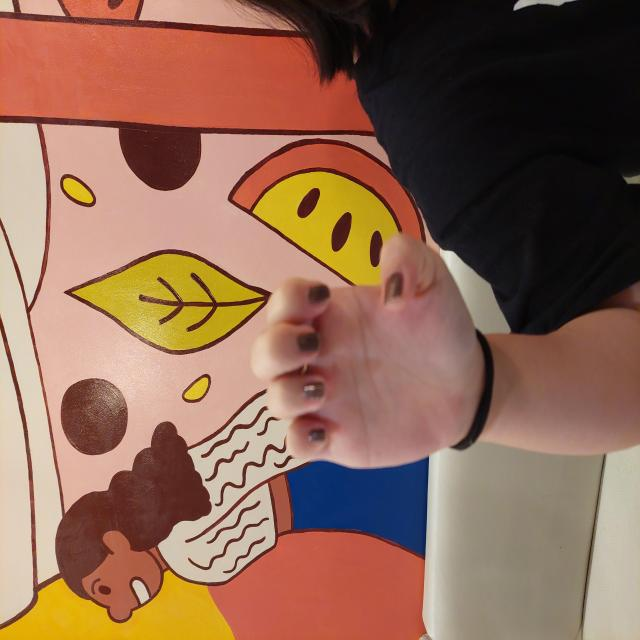E: (168, 247, 410, 483)
